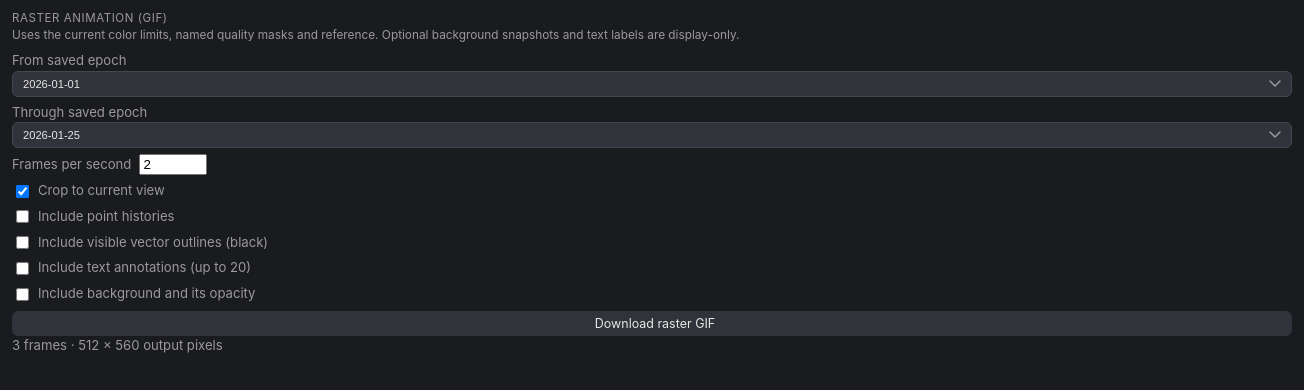
Scenario: raster GIF export controls › shows failed validation and never saves a failed response
Click the button "Download raster GIF": (652, 323) [12, 311, 1292, 336]
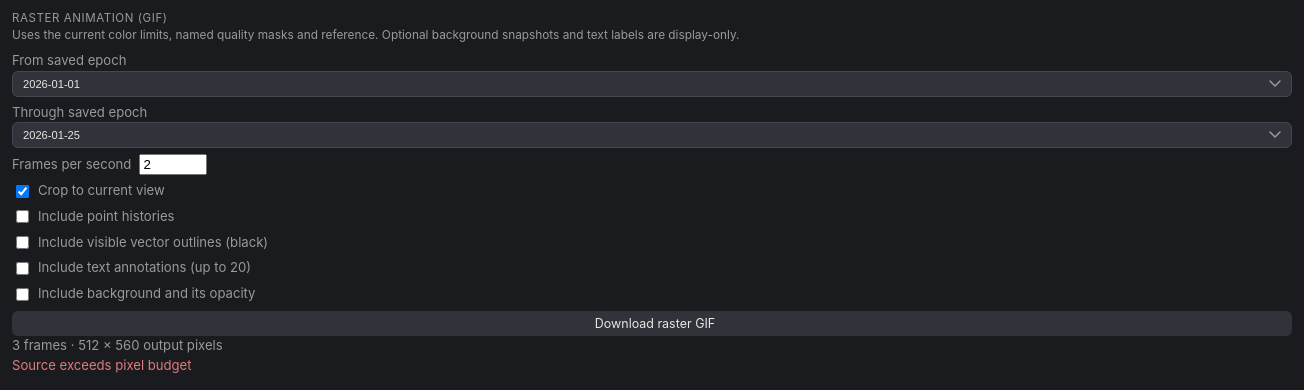
Now the message reads "Source exceeds pixel budget", box [12, 356, 192, 372]
